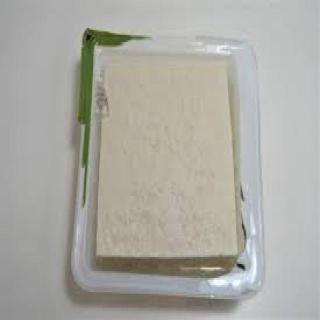Tahu: (95, 56, 246, 280)
